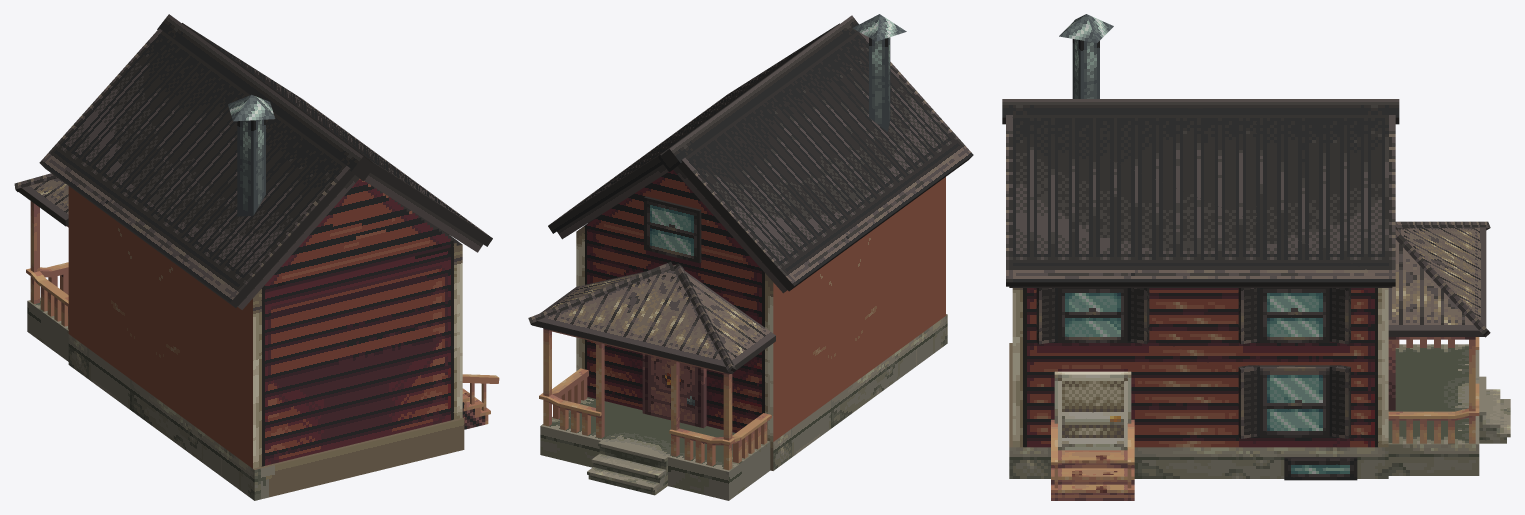
File: playerhouse.gltf
The picture shows the model from 3 angles, left to right: view 1: azimuth 30°, elevation 25°; view 2: azimuth 150°, elevation 25°; view 3: azimuth 270°, elevation 25°; orthographic projection. The views are drawn at different scales.
Parts seen in each view (by area): view 1: house box, roofL (×2), cementbace, roof wall, roofR (×2), roofTopper, chimne, cuboid, pourch, pourch roof, chimneT, stairsSide (+1 smaller); view 2: roofL (×2), house box, pourch roof, pourch, cuboid (×2), roof wall, cementbace, roofR (×2), roofTopper, doorfront, window-t-l, stairsFront (+3 smaller); view 3: roofR (×2), house box, pourch roof, pourch, cementbace, window-m-r (×3), roofTopper, window-t-r (×3), doorside, stairsSide, window-t-l, cuboid (+8 smaller).
Boxes of the visible parts, left/top/right/bottom form: house box: left=68, top=183, right=462, bottom=468; roofL (×2): left=39, top=28, right=359, bottom=309; cementbace: left=68, top=334, right=464, bottom=500; roof wall: left=256, top=178, right=462, bottom=294; roofR (×2): left=182, top=23, right=492, bottom=252; roofTopper: left=157, top=14, right=374, bottom=181; chimne: left=237, top=119, right=265, bottom=216; cuboid: left=26, top=201, right=68, bottom=329; pourch: left=27, top=297, right=68, bottom=361; pourch roof: left=19, top=178, right=68, bottom=226; chimneT: left=228, top=94, right=275, bottom=121; stairsSide: left=462, top=388, right=490, bottom=429; roofL (×2): left=673, top=31, right=973, bottom=293; house box: left=576, top=177, right=945, bottom=441; pourch roof: left=532, top=265, right=775, bottom=373; pourch: left=540, top=397, right=770, bottom=500; cuboid (×2): left=539, top=328, right=771, bottom=470; roof wall: left=577, top=170, right=769, bottom=278; cementbace: left=770, top=314, right=947, bottom=470; roofR (×2): left=548, top=23, right=839, bottom=239; roofTopper: left=658, top=15, right=858, bottom=172; doorfront: left=642, top=354, right=706, bottom=428; window-t-l: left=644, top=196, right=701, bottom=263; stairsFront: left=587, top=441, right=667, bottom=495; roofR (×2): left=1006, top=115, right=1395, bottom=287; house box: left=1012, top=288, right=1388, bottom=447; pourch roof: left=1388, top=227, right=1486, bottom=336; pourch: left=1388, top=344, right=1479, bottom=475; cementbace: left=1009, top=343, right=1388, bottom=478; window-m-r (×3): left=1238, top=365, right=1350, bottom=438; roofTopper: left=1002, top=99, right=1399, bottom=124; window-t-r (×3): left=1238, top=288, right=1350, bottom=344; doorside: left=1054, top=371, right=1131, bottom=450; stairsSide: left=1051, top=450, right=1134, bottom=500; window-t-l: left=1058, top=288, right=1127, bottom=342; cuboid: left=1388, top=337, right=1479, bottom=443.
Size of the model in its own units: 6.17 by 7.48 by 9.12.
6 materials, 6 textured.
